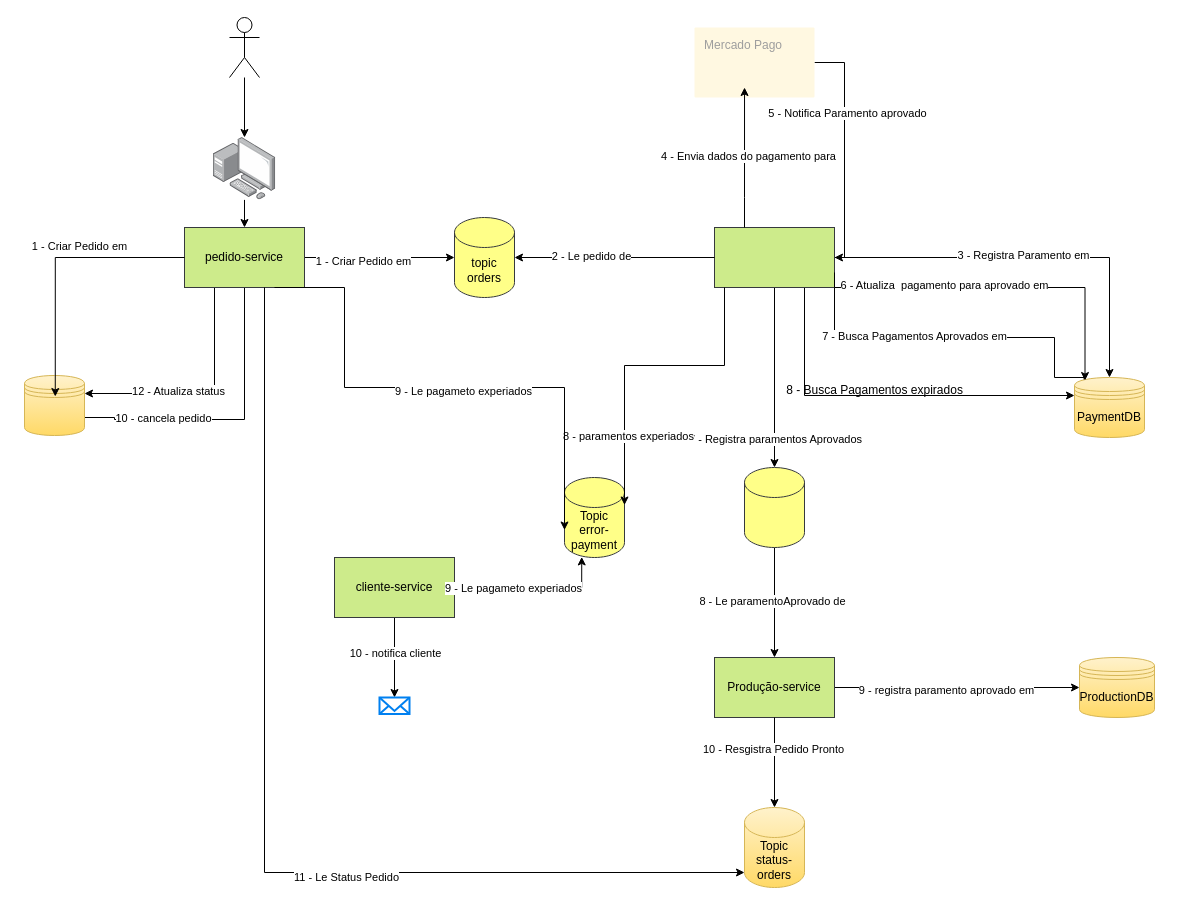
This 1180x905 diagram has some shape labels left out. Each missing label, with the box of its shape:
Cliente: (228, 16, 260, 78)
ordersDB: (24, 374, 84, 436)
pagemento-service: (714, 226, 834, 288)
Topic Payment: (744, 466, 804, 548)
